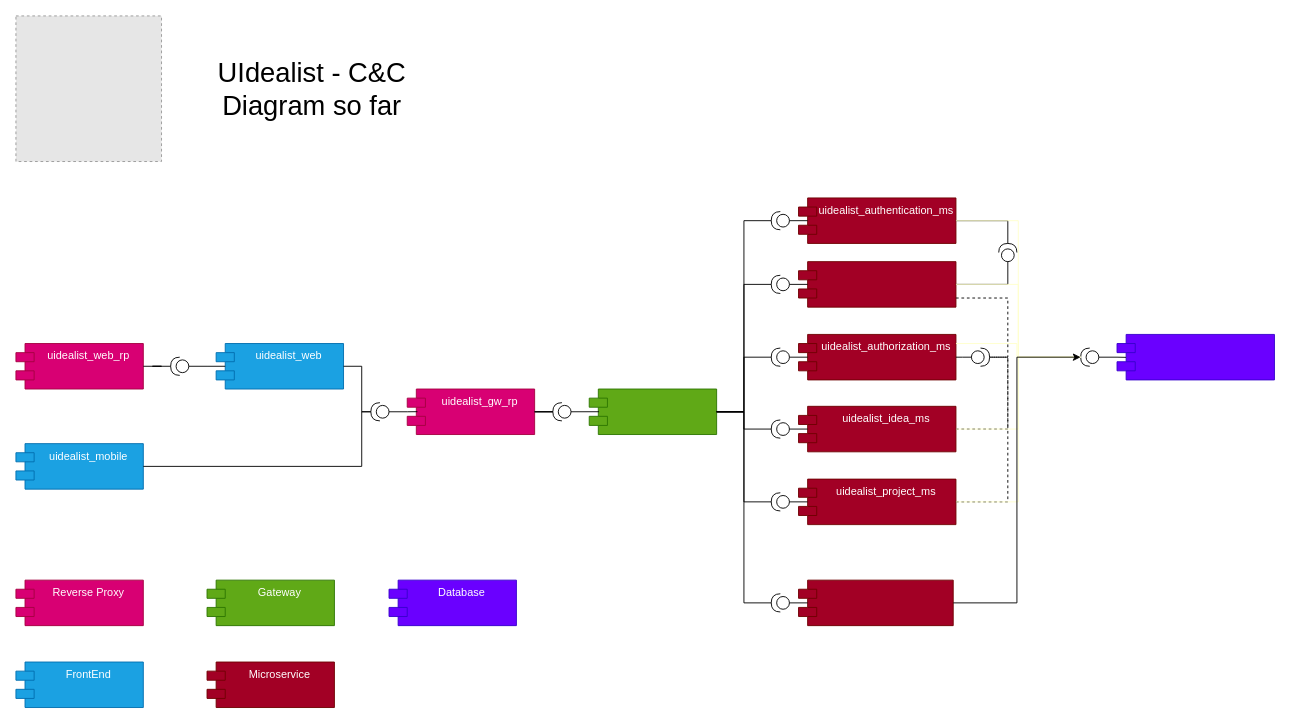
Image size: 1290x723. Some labels were removed from this diagram. Grey dashed boxes stand in for pictures. Each missing label, with the centre of its shape:
uidealist_db: (1195,357)
uidealist_gw: (652,411)
uidealist_member_ms: (877,284)
uidealist_suggestions_ms: (875,602)
